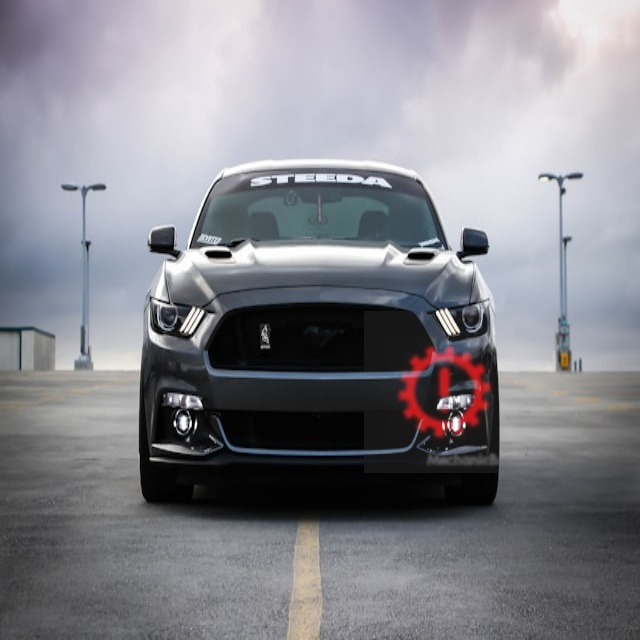symbol: (364, 311, 526, 473)
